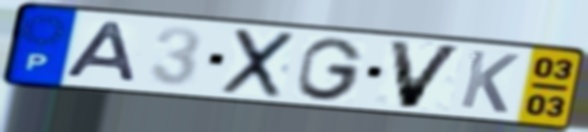3: (149, 25, 208, 89)
A: (61, 19, 140, 85)
G: (294, 35, 367, 102)
K: (456, 47, 523, 116)
V: (385, 37, 468, 110)
X: (217, 26, 300, 100)
